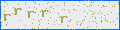r: (40, 10, 49, 17), (27, 11, 36, 18), (13, 8, 22, 15), (60, 16, 68, 23), (3, 14, 11, 21)
